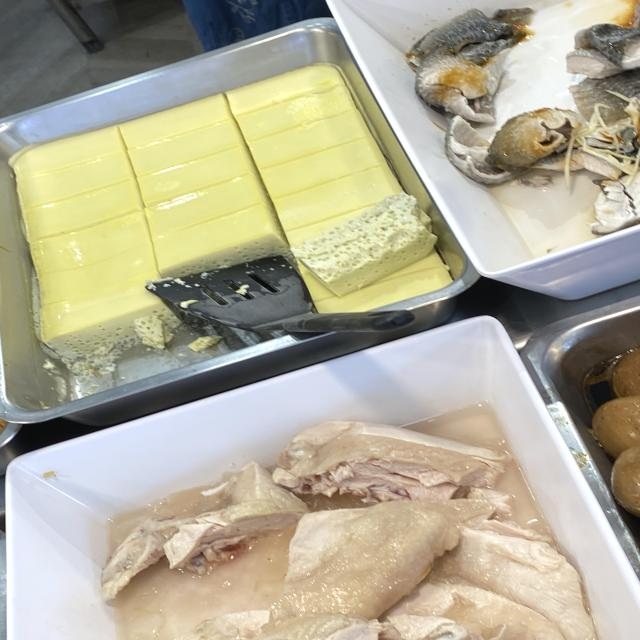steamed egg: (55, 136, 346, 245)
